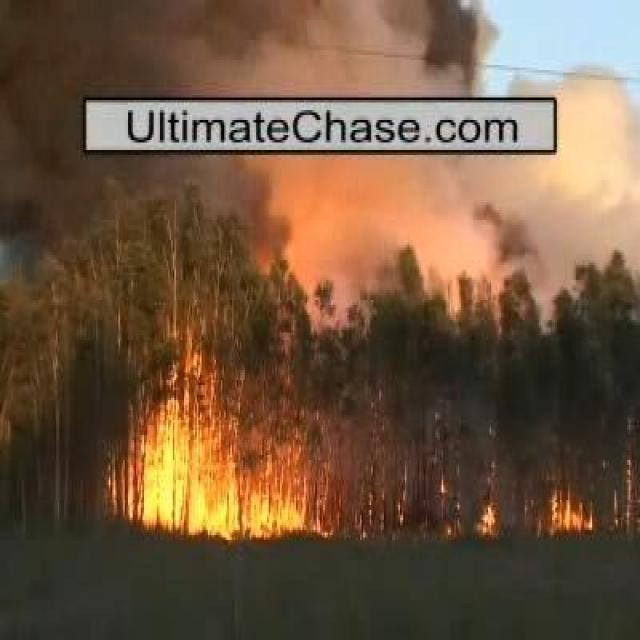fire: (147, 434, 228, 528)
smoke: (258, 168, 600, 256), (126, 15, 472, 89)
